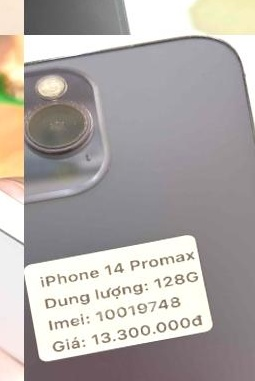scratch: (24, 86, 107, 171)
